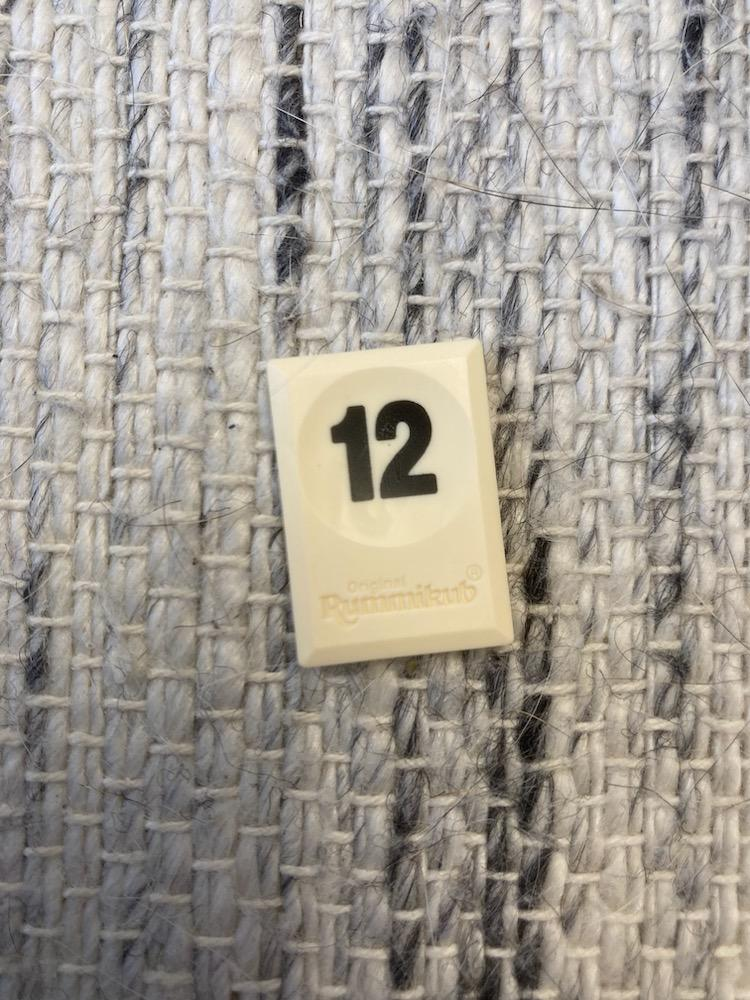black_12: (268, 340, 514, 666)
